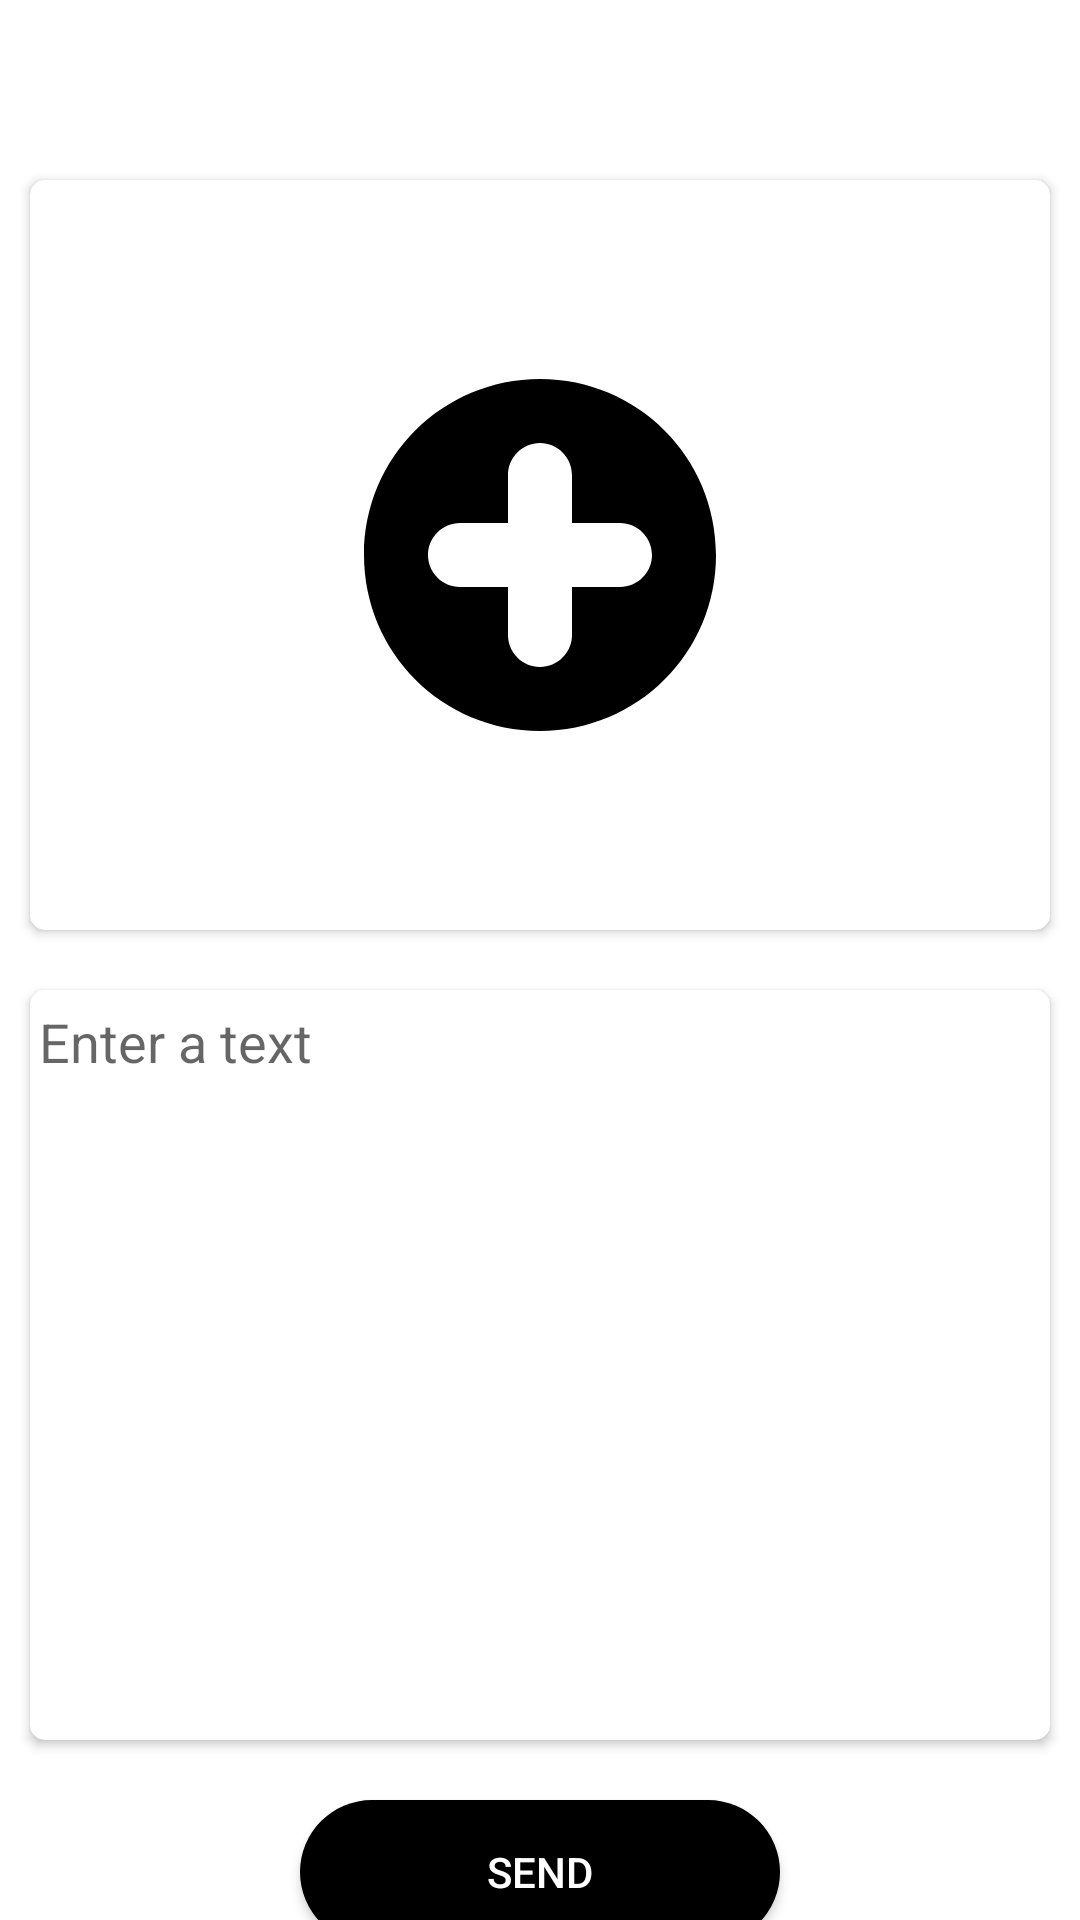

Icon click points for this 1080x1920 phone screenshot, format [x,y]:
add: [540,555]
